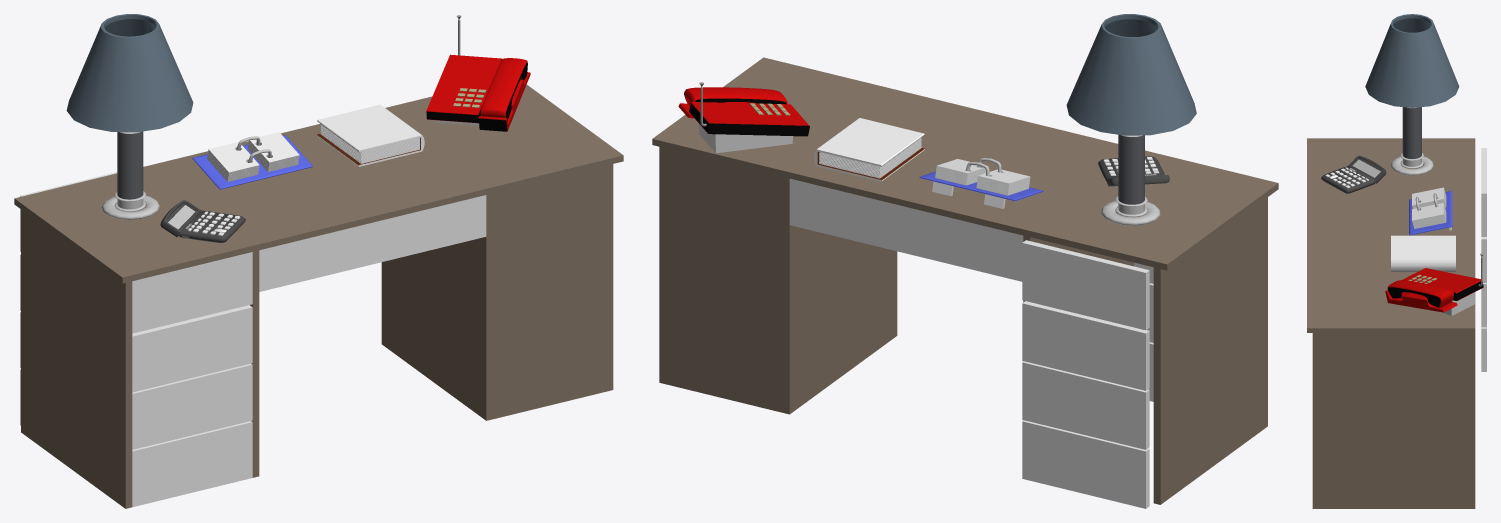
The model's file is desk.glb.
The picture shows the model from 3 angles, left to right: view 1: azimuth 30°, elevation 25°; view 2: azimuth 150°, elevation 25°; view 3: azimuth 270°, elevation 25°; orthographic projection. The views are drawn at different scales.
Parts seen in each view (by area): view 1: DESK; view 2: DESK; view 3: DESK.
Boxes of the visible parts, x1,y1,x2,y2 form: DESK: (14, 14, 623, 508); DESK: (652, 14, 1278, 508); DESK: (1307, 14, 1486, 508).
Bounding box in the file's own units: 1.5 × 1.2 × 0.6.
